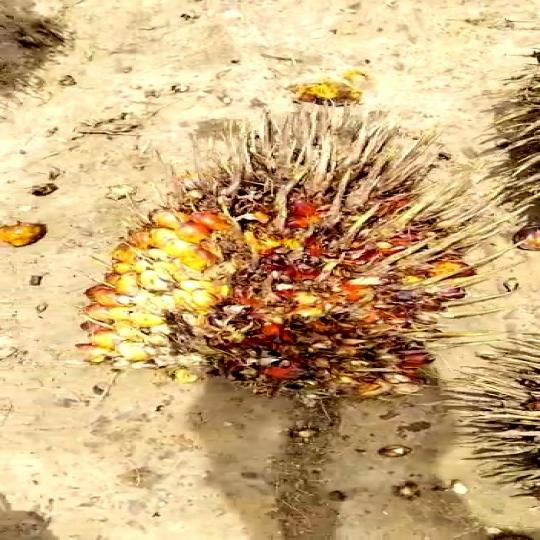terlalu masak: (50, 110, 540, 400)
